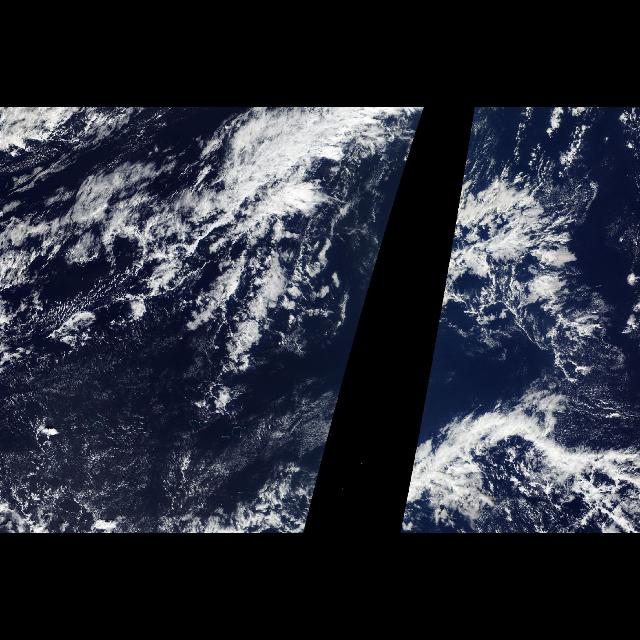Fish: (402, 378, 640, 524)
Sugar: (2, 350, 245, 516)
